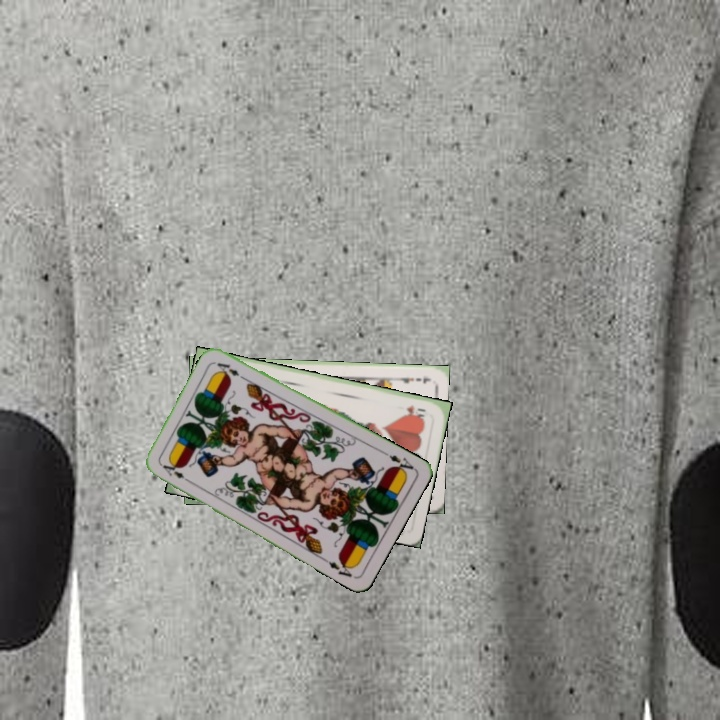E7: (392, 373, 433, 386)
EA: (157, 460, 194, 486), (385, 451, 418, 477)
HO: (402, 400, 428, 420)
